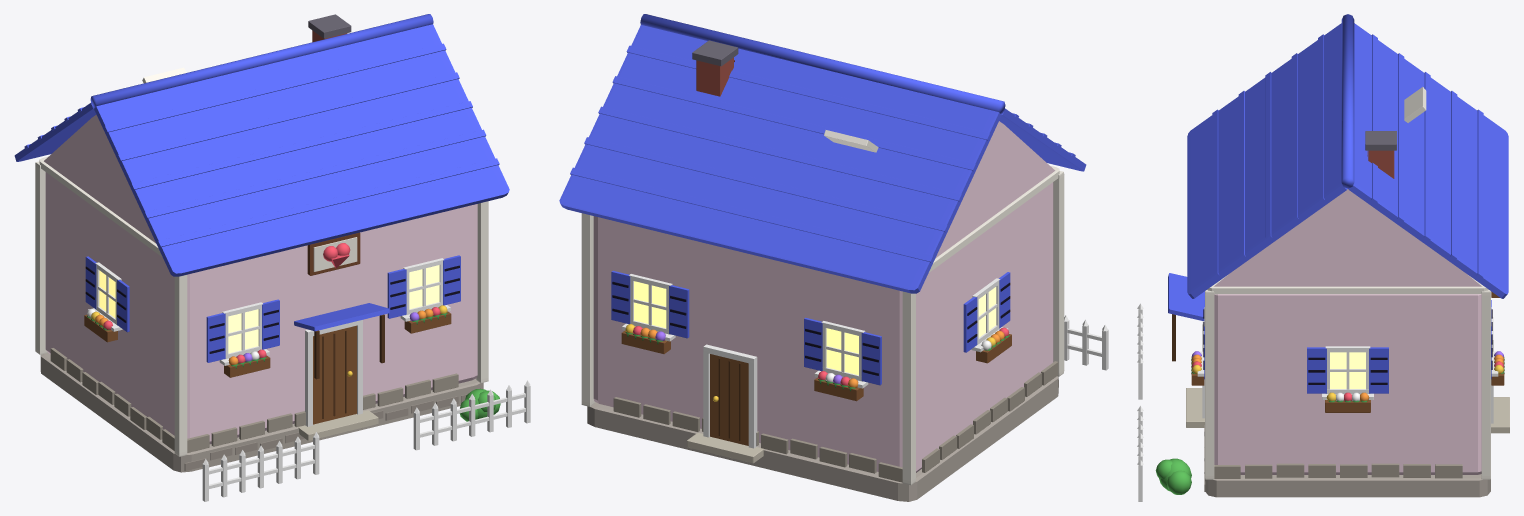
The model's file is pokoj.glb.
3 renders of one model, left to right at view 1: azimuth 30°, elevation 25°; view 2: azimuth 150°, elevation 25°; view 3: azimuth 270°, elevation 25°, orthographic. The views are drawn at different scales.
Parts seen in each view (by area): view 1: pokoj; view 2: pokoj; view 3: pokoj.
Boxes of the visible parts, bbox=[...] form: pokoj: bbox=[14, 14, 530, 501]; pokoj: bbox=[559, 14, 1108, 501]; pokoj: bbox=[1137, 14, 1509, 501].
Size of the model in its own units: 6.74 by 6.35 by 6.47.
Materials: 2 (2 with a texture image).
